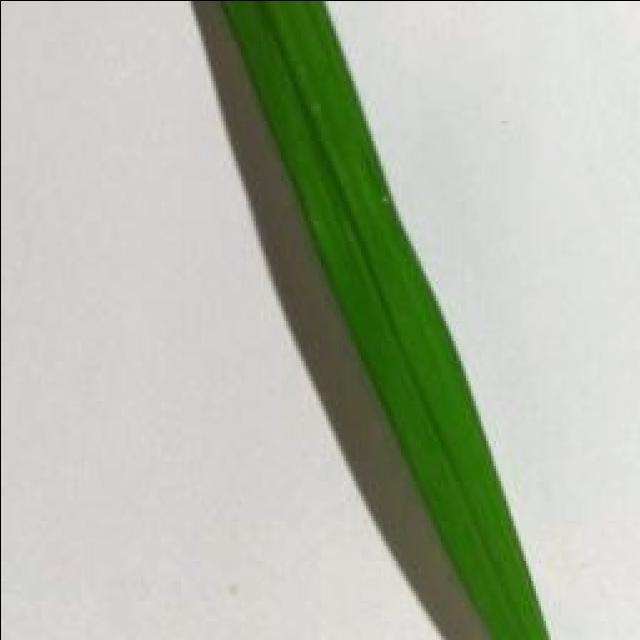Healthy: (215, 0, 550, 640)
